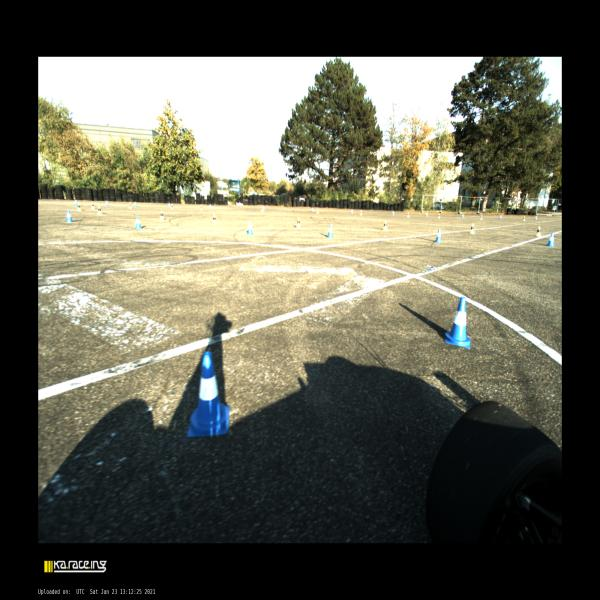blue_cone: (188, 352, 229, 436), (445, 297, 471, 348), (547, 232, 555, 246), (326, 224, 334, 238), (246, 220, 254, 234), (435, 229, 442, 242), (135, 216, 142, 229), (66, 210, 73, 222), (74, 200, 78, 206), (105, 200, 109, 206), (208, 204, 212, 209), (134, 201, 137, 207), (168, 202, 171, 208), (311, 206, 314, 212), (392, 210, 395, 215), (499, 215, 502, 220), (461, 214, 464, 218), (351, 209, 353, 214), (426, 212, 428, 217), (535, 215, 537, 220)
yellow_cone: (296, 218, 302, 228), (383, 220, 388, 231), (470, 224, 475, 234), (97, 205, 102, 214), (212, 214, 216, 225), (160, 210, 164, 221), (536, 226, 540, 236), (77, 203, 81, 211), (91, 202, 95, 209), (128, 202, 132, 209), (359, 209, 363, 216), (522, 215, 526, 221), (170, 204, 174, 209), (200, 204, 203, 210), (316, 208, 319, 214), (407, 212, 410, 217), (480, 214, 482, 220), (438, 213, 440, 218)
